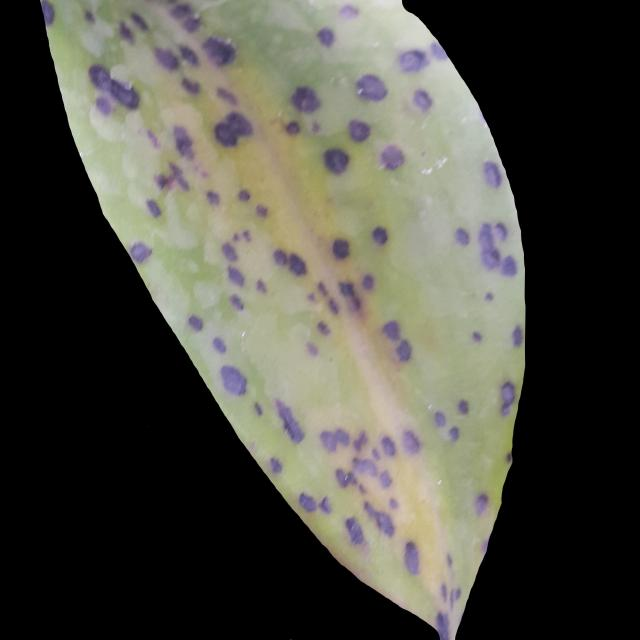mite: (86, 60, 141, 112), (212, 109, 253, 148), (270, 244, 309, 279), (200, 33, 237, 68), (218, 362, 249, 397), (354, 71, 388, 102), (289, 83, 322, 114), (366, 219, 393, 251), (322, 145, 350, 175), (378, 142, 406, 172), (342, 514, 366, 547), (347, 117, 372, 143), (330, 236, 351, 261), (370, 224, 389, 246)
spots: (41, 1, 529, 635)
